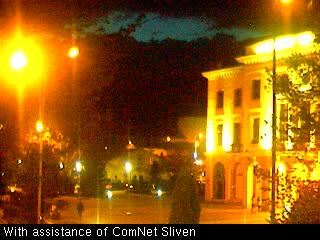person: (76, 201, 85, 223), (251, 193, 257, 214), (257, 196, 264, 212)
